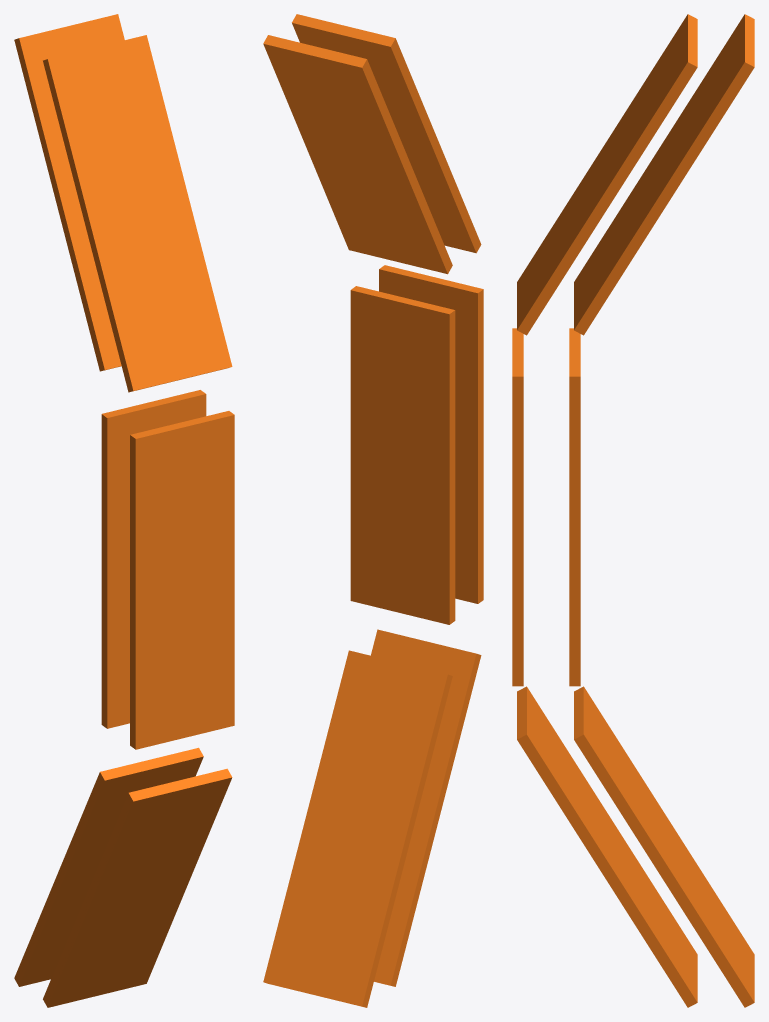
The model's file is KingPressureA.fbx.
3 renders of one model, left to right at view 1: azimuth 30°, elevation 25°; view 2: azimuth 150°, elevation 25°; view 3: azimuth 270°, elevation 25°, orthographic.
Parts seen in each view (by area): view 1: Cube.016, Cube.017, Cube.018, Cube.013, Cube.014, Cube.015; view 2: Cube.015, Cube.013, Cube.014, Cube.017, Cube.018, Cube.016; view 3: Cube.014, Cube.015, Cube.016, Cube.018, Cube.013, Cube.017.
Part boxes in pixels (<box>): Cube.016: <box>43,35,232,392</box>; Cube.017: <box>130,411,234,749</box>; Cube.018: <box>43,768,232,1007</box>; Cube.013: <box>101,390,206,728</box>; Cube.014: <box>14,14,124,371</box>; Cube.015: <box>14,747,203,986</box>; Cube.015: <box>263,650,452,1007</box>; Cube.013: <box>350,286,455,624</box>; Cube.014: <box>263,35,452,274</box>; Cube.017: <box>379,265,483,603</box>; Cube.018: <box>371,629,481,986</box>; Cube.016: <box>292,14,481,253</box>; Cube.014: <box>574,14,754,335</box>; Cube.015: <box>574,686,754,1007</box>; Cube.016: <box>517,14,697,335</box>; Cube.018: <box>517,686,697,1007</box>; Cube.013: <box>569,328,580,686</box>; Cube.017: <box>512,328,523,686</box>.
Size of the model in its own units: 20 by 183 by 42.55.
